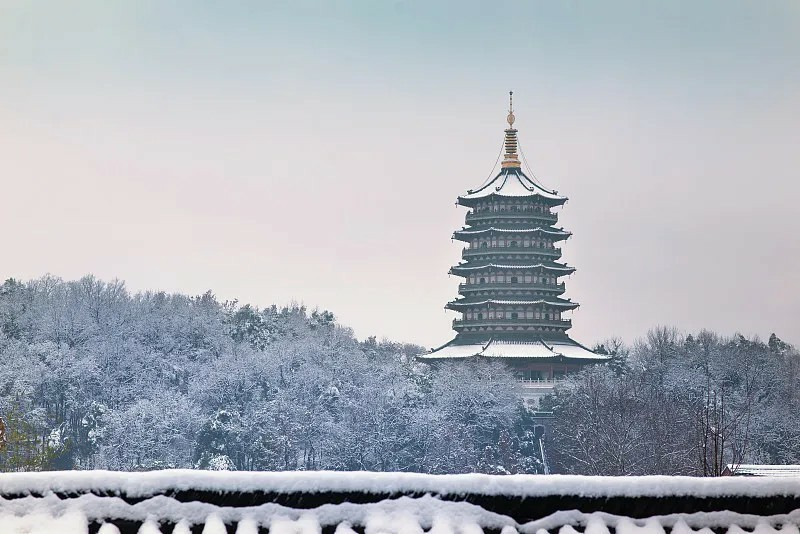Leifeng: (413, 91, 614, 383)
